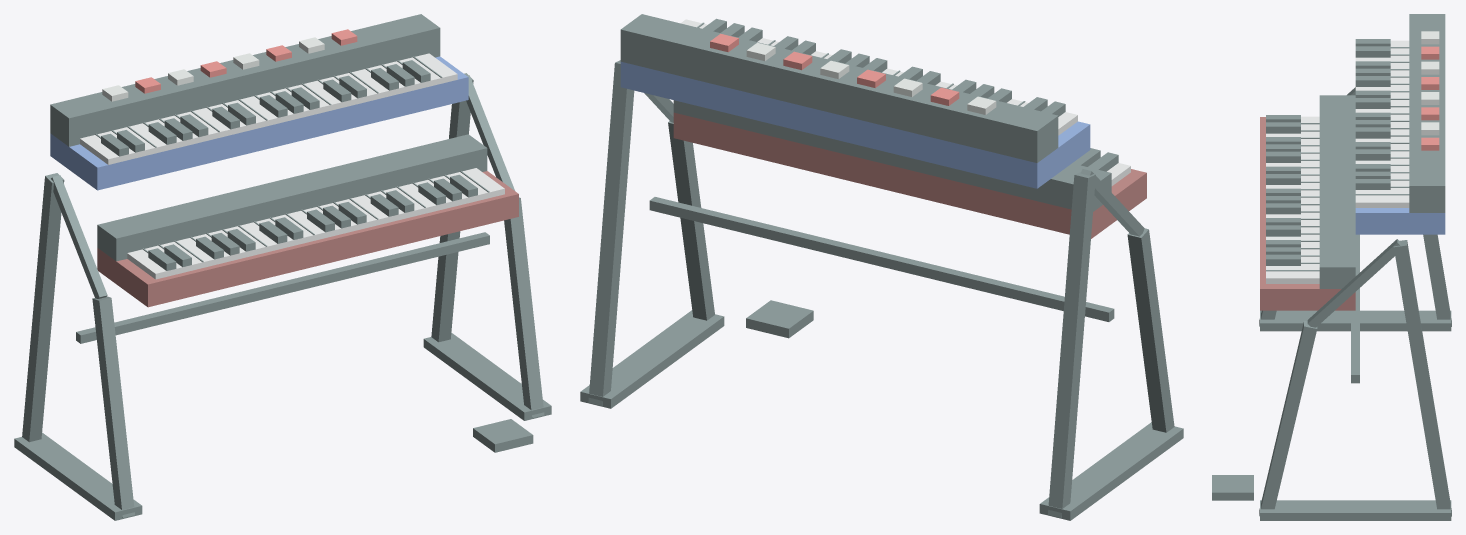
The model's file is keyboardStage.glb.
3 views of the same model, side by side, from view 1: azimuth 30°, elevation 25°; view 2: azimuth 150°, elevation 25°; view 3: azimuth 270°, elevation 25° (orthographic). The views are drawn at different scales.
Parts seen in each view (by area): view 1: keyboardStage; view 2: keyboardStage; view 3: keyboardStage.
Boxes of the visible parts, x1,y1,x2,y2 form: keyboardStage: [14, 14, 551, 520]; keyboardStage: [580, 14, 1183, 520]; keyboardStage: [1212, 14, 1451, 520].
Size of the model in its own units: 0.8 by 0.6024 by 0.4011.
